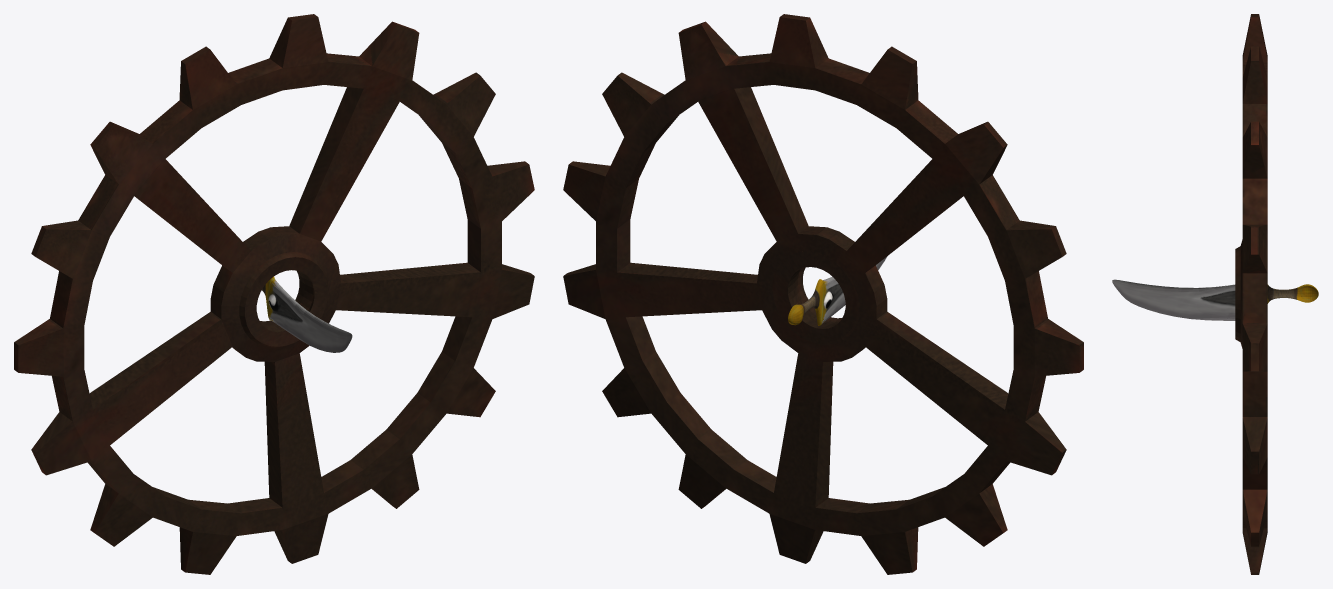
File: ubw.fbx
The picture shows the model from 3 angles, left to right: view 1: azimuth 30°, elevation 25°; view 2: azimuth 150°, elevation 25°; view 3: azimuth 270°, elevation 25°; orthographic projection. The views are drawn at different scales.
Parts seen in each view (by area): view 1: Gear, Blade; view 2: Gear, Blade; view 3: Gear, Blade.
Part boxes in pixels (x1,y1,x2,y2): Gear: [14, 14, 534, 574]; Blade: [262, 276, 352, 352]; Gear: [563, 14, 1083, 574]; Blade: [788, 256, 887, 325]; Gear: [1235, 14, 1267, 574]; Blade: [1112, 279, 1318, 320].
Size of the model in its own units: 43.14 by 43.38 by 15.97.
2 materials, 2 textured.
